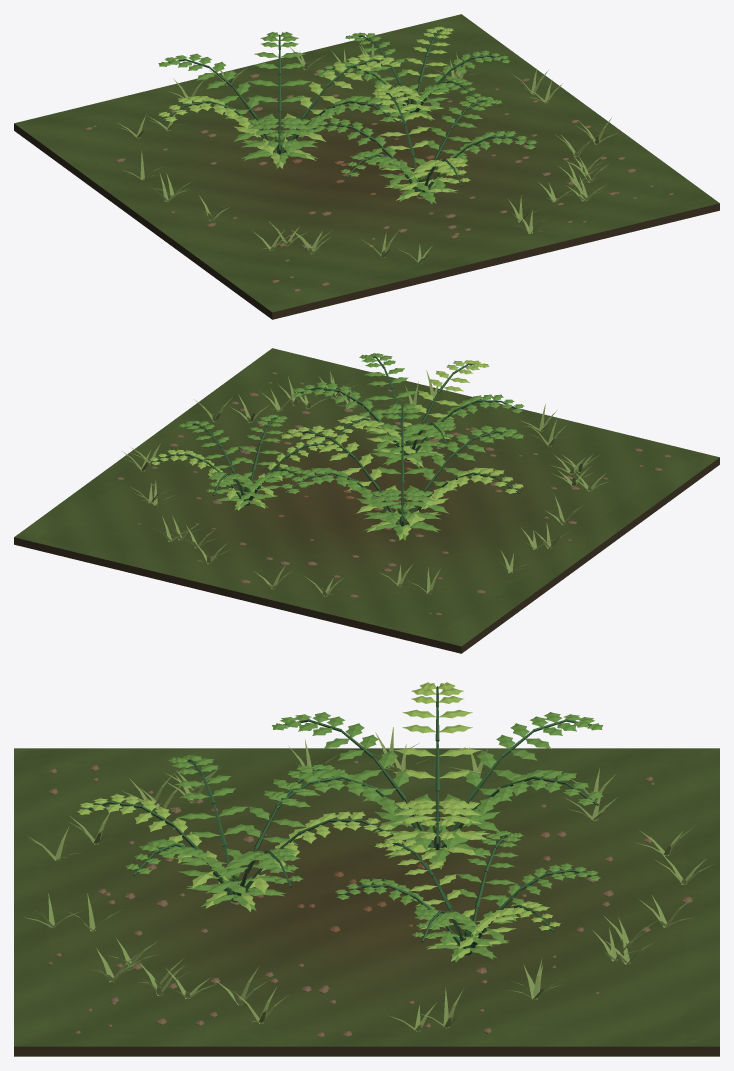
Rendered from fern.glb.
3 views of the same model, one above another, from view 1: azimuth 30°, elevation 25°; view 2: azimuth 150°, elevation 25°; view 3: azimuth 270°, elevation 25° (orthographic). The views are drawn at different scales.
Visible parts, largest first — view 1: Static_mesh; view 2: Static_mesh; view 3: Static_mesh, FernPinnae.016_mesh, FernPinnae.017_mesh, FernPinnae.022_mesh, FernPinnae.012_mesh, FernPinnae_mesh, FernPinnae.021_mesh, FernPinnae.011_mesh, FernPinnae.001_mesh, FernPinnae.071_mesh, FernPinnae.066_mesh, FernPinnae.085_mesh.
Boxes of the visible parts, x1=… form: Static_mesh: x1=14, y1=14, x2=719, y2=319; Static_mesh: x1=14, y1=348, x2=719, y2=653; Static_mesh: x1=14, y1=748, x2=719, y2=1056; FernPinnae.016_mesh: x1=393, y1=747, x2=481, y2=778; FernPinnae.017_mesh: x1=402, y1=709, x2=472, y2=733; FernPinnae.022_mesh: x1=323, y1=723, x2=378, y2=760; FernPinnae.012_mesh: x1=496, y1=723, x2=551, y2=760; FernPinnae_mesh: x1=384, y1=830, x2=490, y2=855; FernPinnae.021_mesh: x1=354, y1=750, x2=409, y2=801; FernPinnae.011_mesh: x1=465, y1=750, x2=526, y2=801; FernPinnae.001_mesh: x1=393, y1=808, x2=481, y2=823; FernPinnae.071_mesh: x1=178, y1=806, x2=253, y2=837; FernPinnae.066_mesh: x1=240, y1=806, x2=306, y2=844; FernPinnae.085_mesh: x1=201, y1=876, x2=290, y2=906.
Size of the model in its own units: 3.5 by 0.6373 by 3.5.
